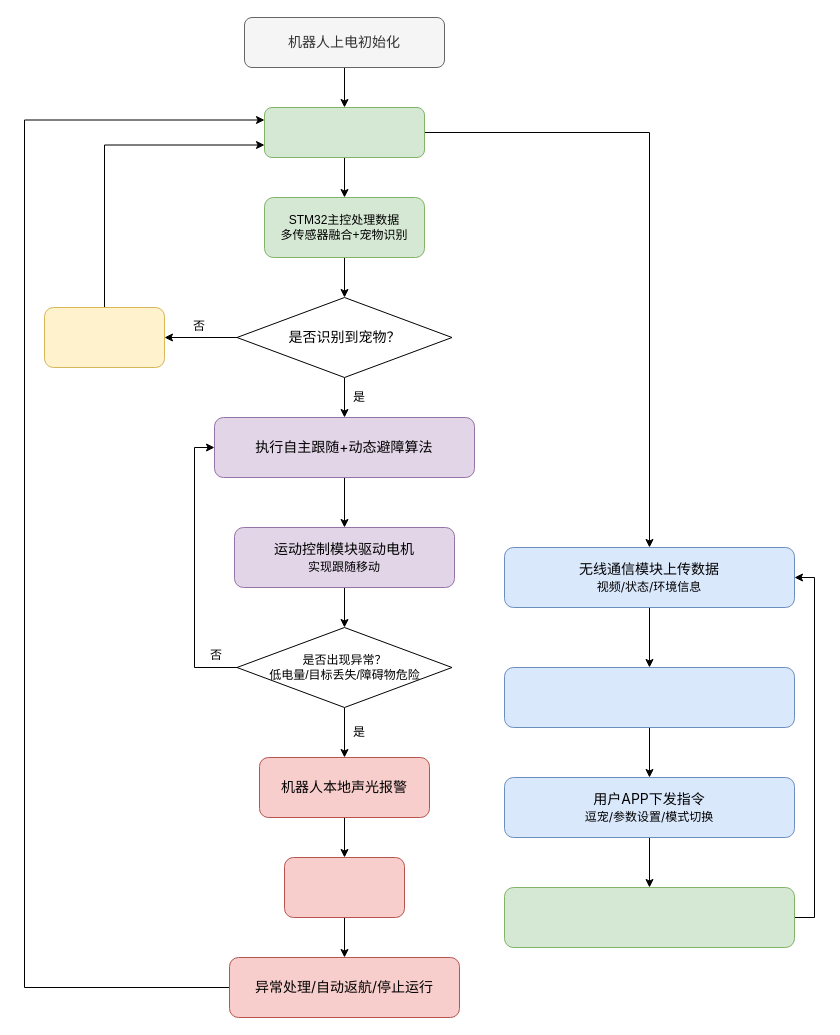
The diagram is 840 pixels wide and 1035 high, and some of its shapes have lost their labels. The centre of each missing label's shape, as x and y in pixels:
"APP推送异常提醒" goes at (344,887).
"启动扫描搜索模式 声光提示" goes at (104,337).
"多传感器采集数据 摄像头+超声波+红外" goes at (344,132).
"手机端APP接收并显示 实时监控/状态展示" goes at (649,697).
"机器人解析指令并执行 声光互动/参数调整" goes at (649,917).
